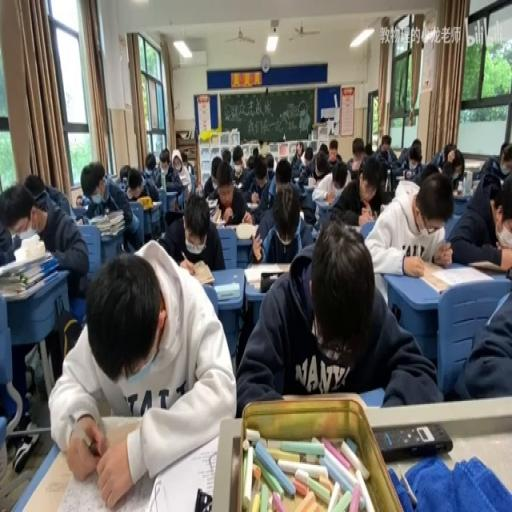calculator: (430, 264, 494, 288), (242, 260, 284, 289), (180, 257, 215, 286), (214, 282, 240, 300), (234, 222, 257, 240), (16, 226, 38, 240), (210, 205, 224, 223), (314, 195, 334, 206), (204, 196, 218, 208), (88, 214, 104, 224), (306, 176, 315, 188), (218, 224, 235, 230), (232, 179, 242, 189), (150, 199, 162, 206), (246, 202, 258, 209), (395, 172, 405, 179), (74, 216, 84, 223)
paper: (51, 239, 237, 508), (234, 217, 432, 414), (450, 184, 511, 401), (0, 176, 89, 309), (79, 159, 138, 255), (158, 186, 224, 268), (252, 179, 315, 260), (331, 150, 392, 224), (204, 156, 251, 222), (474, 141, 511, 183), (125, 166, 156, 210), (154, 148, 184, 192), (396, 135, 422, 184), (305, 140, 336, 180), (0, 209, 17, 265), (430, 141, 458, 172), (44, 186, 72, 216), (494, 188, 510, 240), (290, 144, 309, 180), (376, 134, 397, 166), (346, 142, 364, 176), (24, 174, 46, 200), (274, 158, 290, 189), (334, 208, 359, 224), (418, 164, 440, 180), (333, 162, 346, 189), (118, 164, 132, 188), (180, 151, 193, 175), (245, 148, 256, 169), (76, 193, 90, 209), (264, 152, 274, 172), (221, 146, 231, 165), (232, 146, 242, 165), (499, 141, 510, 158), (145, 154, 155, 172), (259, 139, 270, 155), (256, 168, 266, 185), (363, 142, 373, 156), (328, 142, 338, 156), (158, 160, 168, 174), (109, 175, 121, 186), (189, 171, 195, 192), (304, 150, 311, 164), (294, 148, 301, 156)
person: (374, 424, 451, 462), (193, 488, 211, 509)
